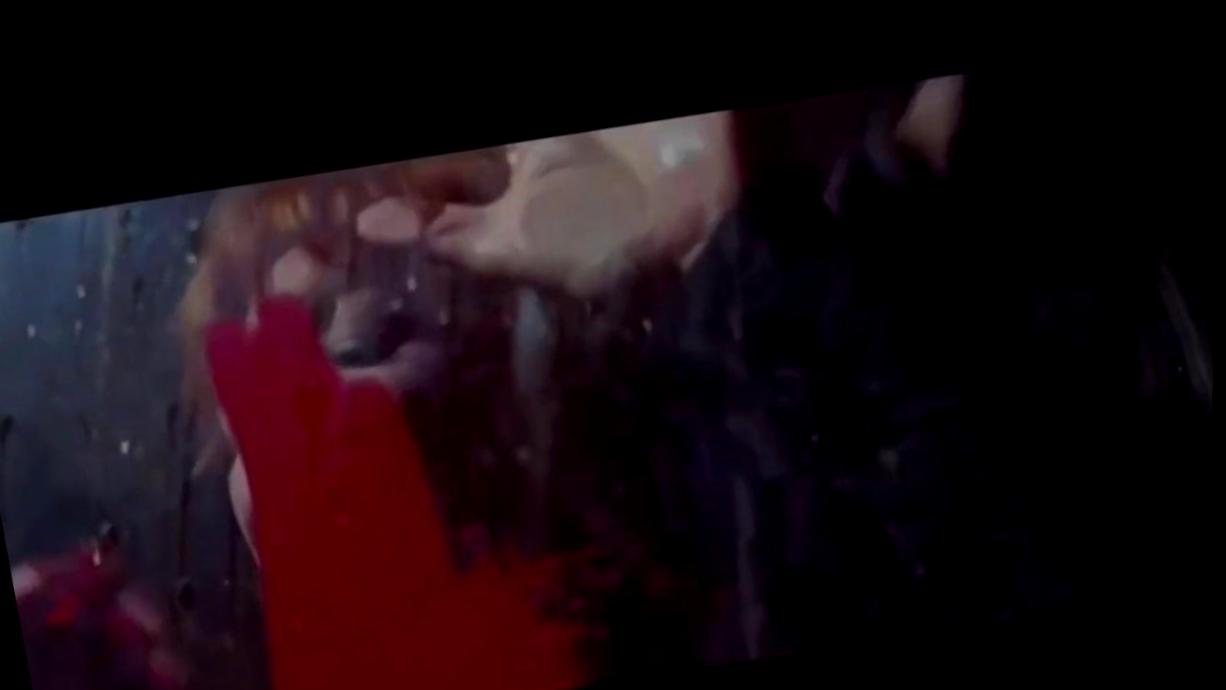Fire: (208, 292, 591, 690), (15, 523, 194, 690)
